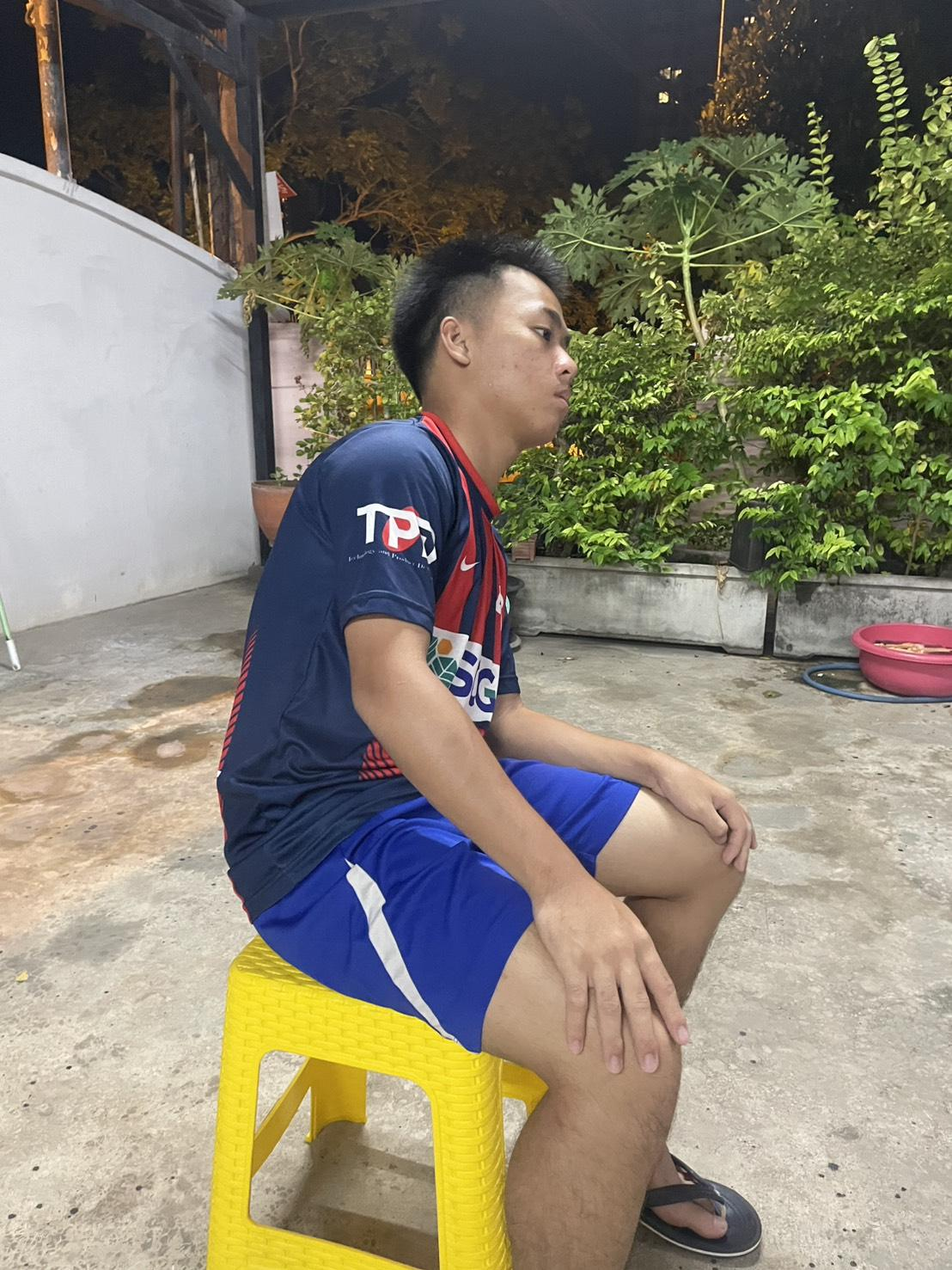BadPosture: (217, 238, 736, 1019), (217, 237, 577, 915)
